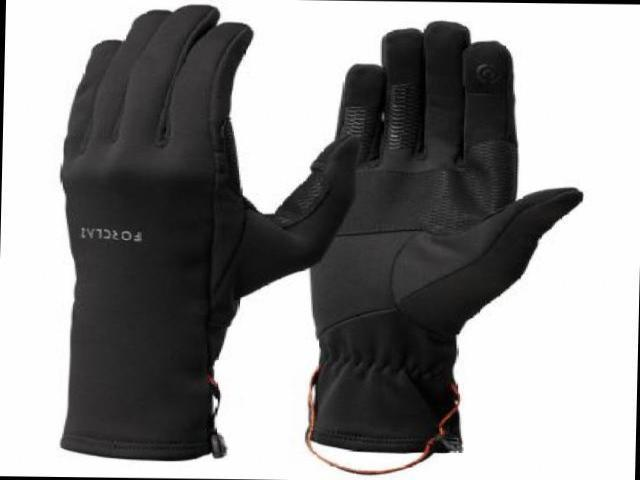Hand-in-Glove: (28, 5, 363, 454), (304, 20, 585, 455)
